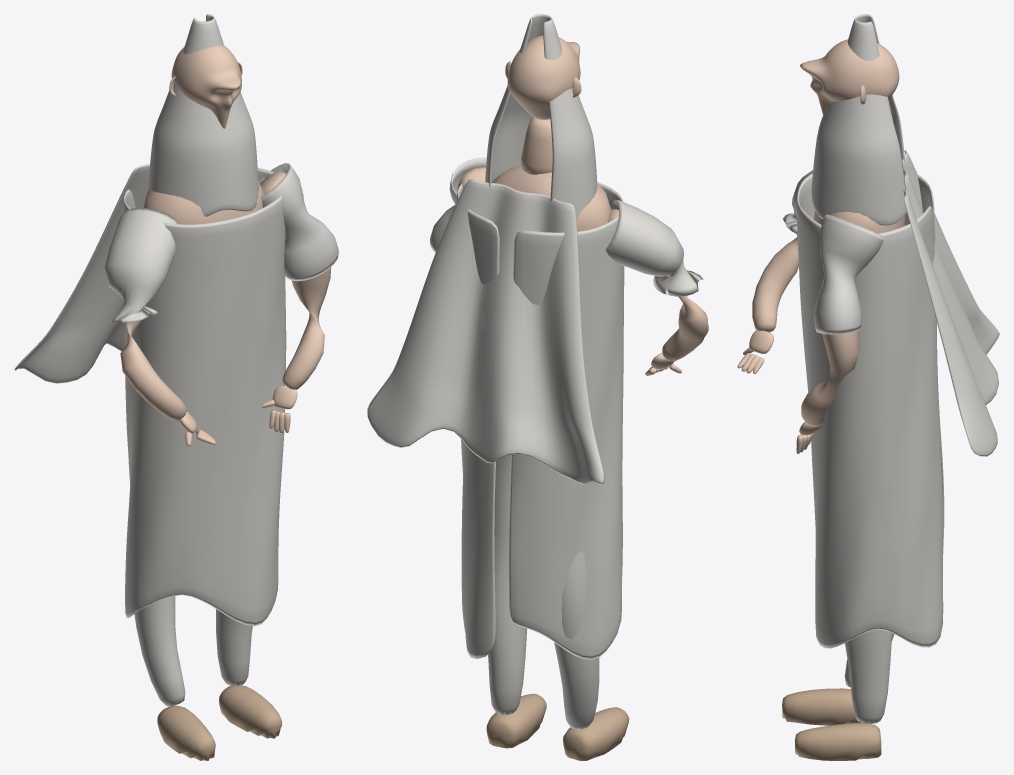
File: monolith_mystic.glb
3 views of the same model, side by side, from view 1: azimuth 30°, elevation 25°; view 2: azimuth 150°, elevation 25°; view 3: azimuth 270°, elevation 25° (orthographic). The views are drawn at different scales.
Parts seen in each view (by area): view 1: Robe, Hood, Cape, SleeveR, SleeveL, Head, LegR, ArmL, ArmR, BootL, BootR, LegL (+1 smaller); view 2: Cape, Robe, Hood, LegL, SleeveR, LegR, Head, BootR, BootL, Body, ArmR, Neck (+1 smaller); view 3: Robe, Hood, Cape, SleeveL, Head, LegL, BootL, ArmL, BootR, ArmR, Body, Palm-1.
Part boxes in pixels (x1,y1,x2,y2): Robe: (123,167,286,626); Hood: (147,14,258,216); Cape: (14,164,149,383); SleeveR: (104,207,177,323); SleeveL: (258,163,338,281); Head: (171,45,241,128); LegR: (134,596,185,706); ArmL: (260,171,331,389); ArmR: (120,320,186,420); BootL: (219,685,282,738); BootR: (157,705,215,760); LegL: (216,609,252,686); Cape: (367,179,604,484); Robe: (456,182,624,659); Hood: (485,14,597,220); LegL: (488,455,527,714); SleeveR: (605,198,703,296); LegR: (554,551,599,729); Head: (507,35,580,119); BootR: (563,707,629,760); BootL: (486,693,546,748); Body: (492,165,610,231); ArmR: (607,209,708,361); Neck: (521,117,552,174); Robe: (796,173,944,648); Hood: (811,14,906,225); Cape: (902,150,999,456); SleeveL: (813,214,883,334); Head: (800,39,899,116); LegL: (845,629,891,723); BootL: (795,723,881,760); ArmL: (801,330,859,426); BootR: (782,688,860,725); ArmR: (752,234,798,332); Body: (814,210,905,233); Palm-1: (749,330,773,353).
Size of the model in its own units: 0.696 by 1.92 by 0.6359.
